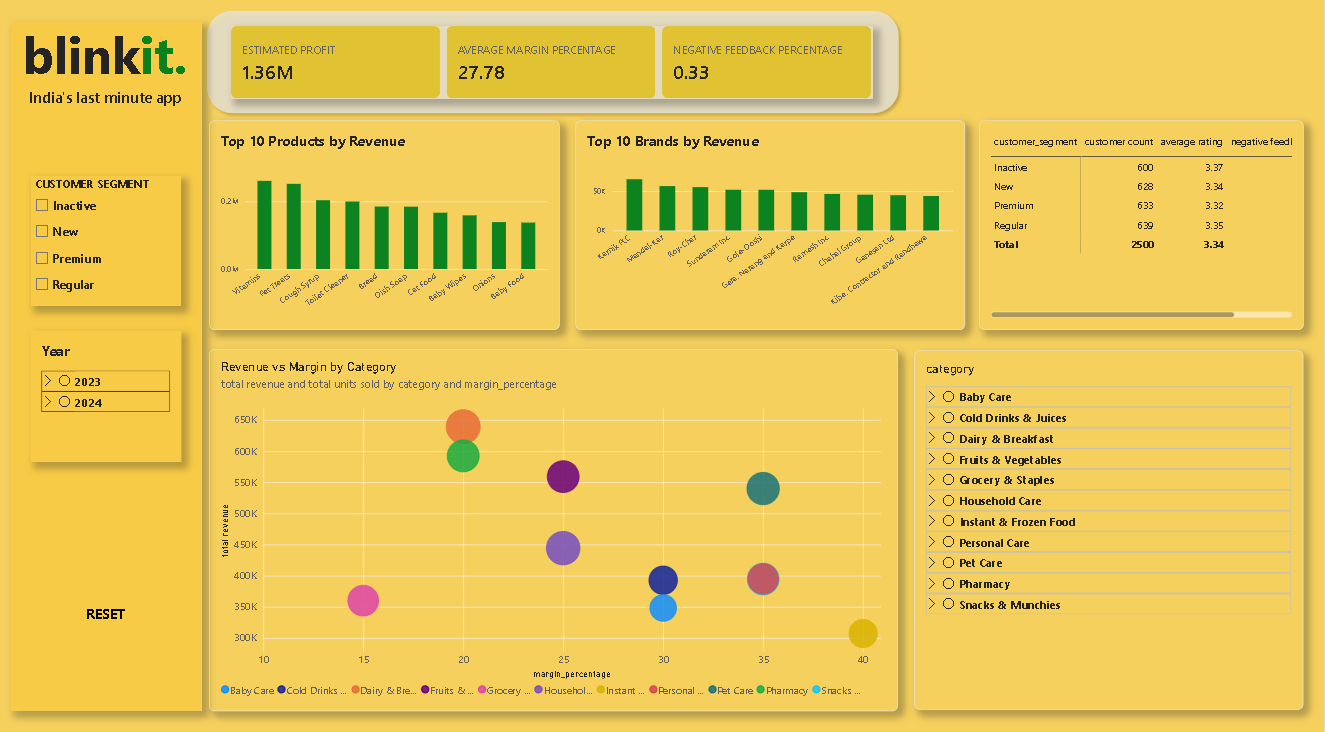

The dashboard page shown, as its layout file describes it:
{"tool":"powerbi","page":{"name":"Page 2","canvas":[1920,1080],"ordinal":1},"visuals":[{"type":"shape","box":[293.3,16.7,1020,166.7],"z":0},{"type":"shape","box":[17.9,41.1,277.1,997.7],"z":1000},{"type":"slicer","fields":{"Values":["blinkit_customers.customer_segment"]},"box":[46.7,265,218.1,189.5],"z":2000},{"type":"listSlicer","title":"Year ","fields":{"Values":["blinkit_customer_feedback.feedback_date.Variation.Date Hierarchy.Year","blinkit_customer_feedback.feedback_date.Variation.Date Hierarchy.Quarter","blinkit_customer_feedback.feedback_date.Variation.Date Hierarchy.Month","blinkit_customer_feedback.feedback_date.Variation.Date Hierarchy.Day"]},"box":[46.7,488.3,218.3,190],"z":3000},{"type":"textbox","box":[16.7,40,276.7,173.3],"z":4000},{"type":"cardVisual","fields":{"Data":["blinkit_order_items.estimated profit","blinkit_products.average margin %","blinkit_customer_feedback.negative feedback %"]},"box":[336.7,46.7,930,106.7],"z":5000},{"type":"listSlicer","fields":{"Values":["blinkit_products.category","blinkit_products.brand"]},"box":[1326.7,516.7,563.3,520],"z":6000},{"type":"clusteredColumnChart","title":"Top 10 Products by Revenue","fields":{"Category":["blinkit_products.product_name"],"Y":["blinkit_order_items.total revenue"]},"box":[306.1,184.8,507.1,302.9],"z":7000},{"type":"clusteredColumnChart","title":"Top 10 Brands by Revenue","fields":{"Category":["blinkit_products.brand"],"Y":["blinkit_order_items.total revenue"]},"box":[836.4,184.8,563.6,303],"z":8000},{"type":"scatterChart","title":"Revenue vs Margin by Category","fields":{"Series":["blinkit_products.category"],"Size":["blinkit_order_items.total units sold"],"X":["blinkit_products.margin_percentage"],"Y":["blinkit_order_items.total revenue"]},"box":[306.1,515.2,997,524.2],"z":9000},{"type":"pivotTable","fields":{"Rows":["blinkit_customers.customer_segment"],"Values":["blinkit_customers.customer count","blinkit_customer_feedback.average rating","blinkit_customer_feedback.negative feedback count"]},"box":[1421.2,184.8,469.7,303],"z":10000},{"type":"actionButton","box":[56.7,873.3,200,50],"z":10001}]}

Visuals, with their boxes in screenshot pixels (x1, y1, x2, y2), scaled from the page's 1920x1080 canvas onto the 1325x732 screenshot:
shape: Rect(202, 11, 906, 124)
shape: Rect(12, 28, 204, 704)
slicer - blinkit_customers.customer_segment: Rect(32, 180, 183, 308)
"Year " listSlicer: Rect(32, 331, 183, 460)
textbox: Rect(12, 27, 202, 145)
cardVisual - blinkit_order_items.estimated profit x blinkit_products.average margin %: Rect(232, 32, 874, 104)
listSlicer - blinkit_products.category x blinkit_products.brand: Rect(916, 350, 1304, 703)
"Top 10 Products by Revenue" clusteredColumnChart: Rect(211, 125, 561, 331)
"Top 10 Brands by Revenue" clusteredColumnChart: Rect(577, 125, 966, 331)
"Revenue vs Margin by Category" scatterChart: Rect(211, 349, 899, 704)
pivotTable - blinkit_customers.customer_segment x blinkit_customers.customer count: Rect(981, 125, 1305, 331)
actionButton: Rect(39, 592, 177, 626)
